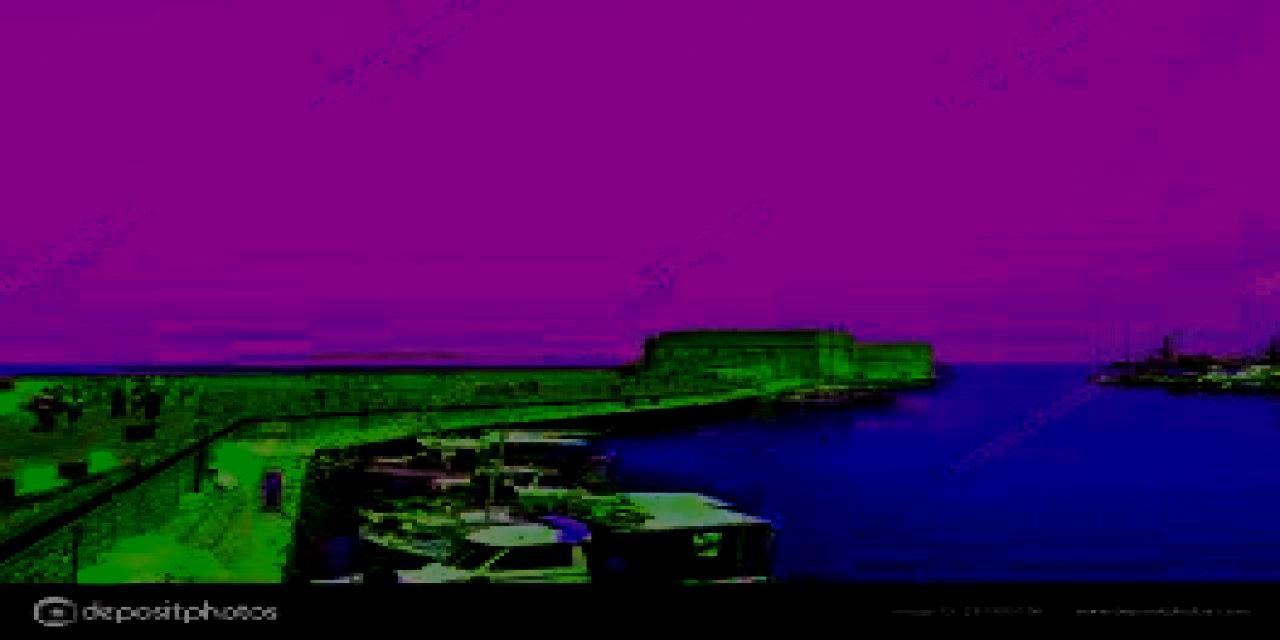Kules: (645, 329, 948, 388)
